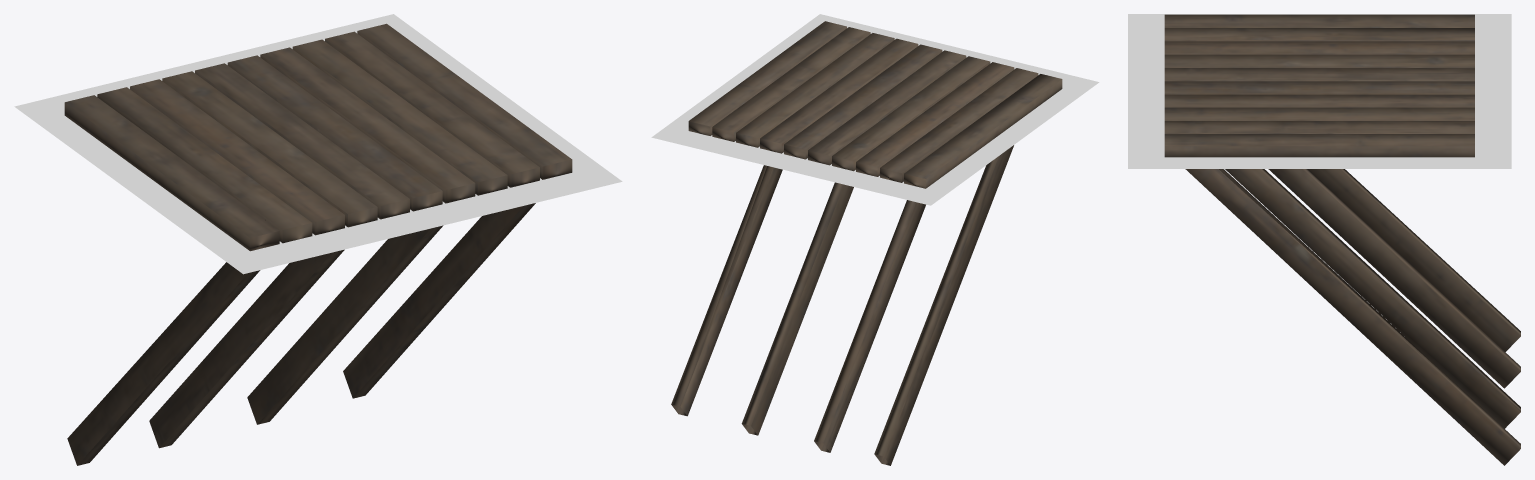
The model's file is balcony2.glb.
3 renders of one model, left to right at view 1: azimuth 30°, elevation 25°; view 2: azimuth 150°, elevation 25°; view 3: azimuth 270°, elevation 25°, orthographic. The views are drawn at different scales.
Visible parts, largest first — view 1: balcony2; view 2: balcony2; view 3: balcony2.
Part boxes in pixels (x1,y1,x2,y2): balcony2: [14, 14, 622, 465]; balcony2: [651, 14, 1099, 465]; balcony2: [1128, 14, 1520, 465].
Size of the model in its own units: 4.51 by 4.39 by 4.83.
2 materials, 1 textured.
